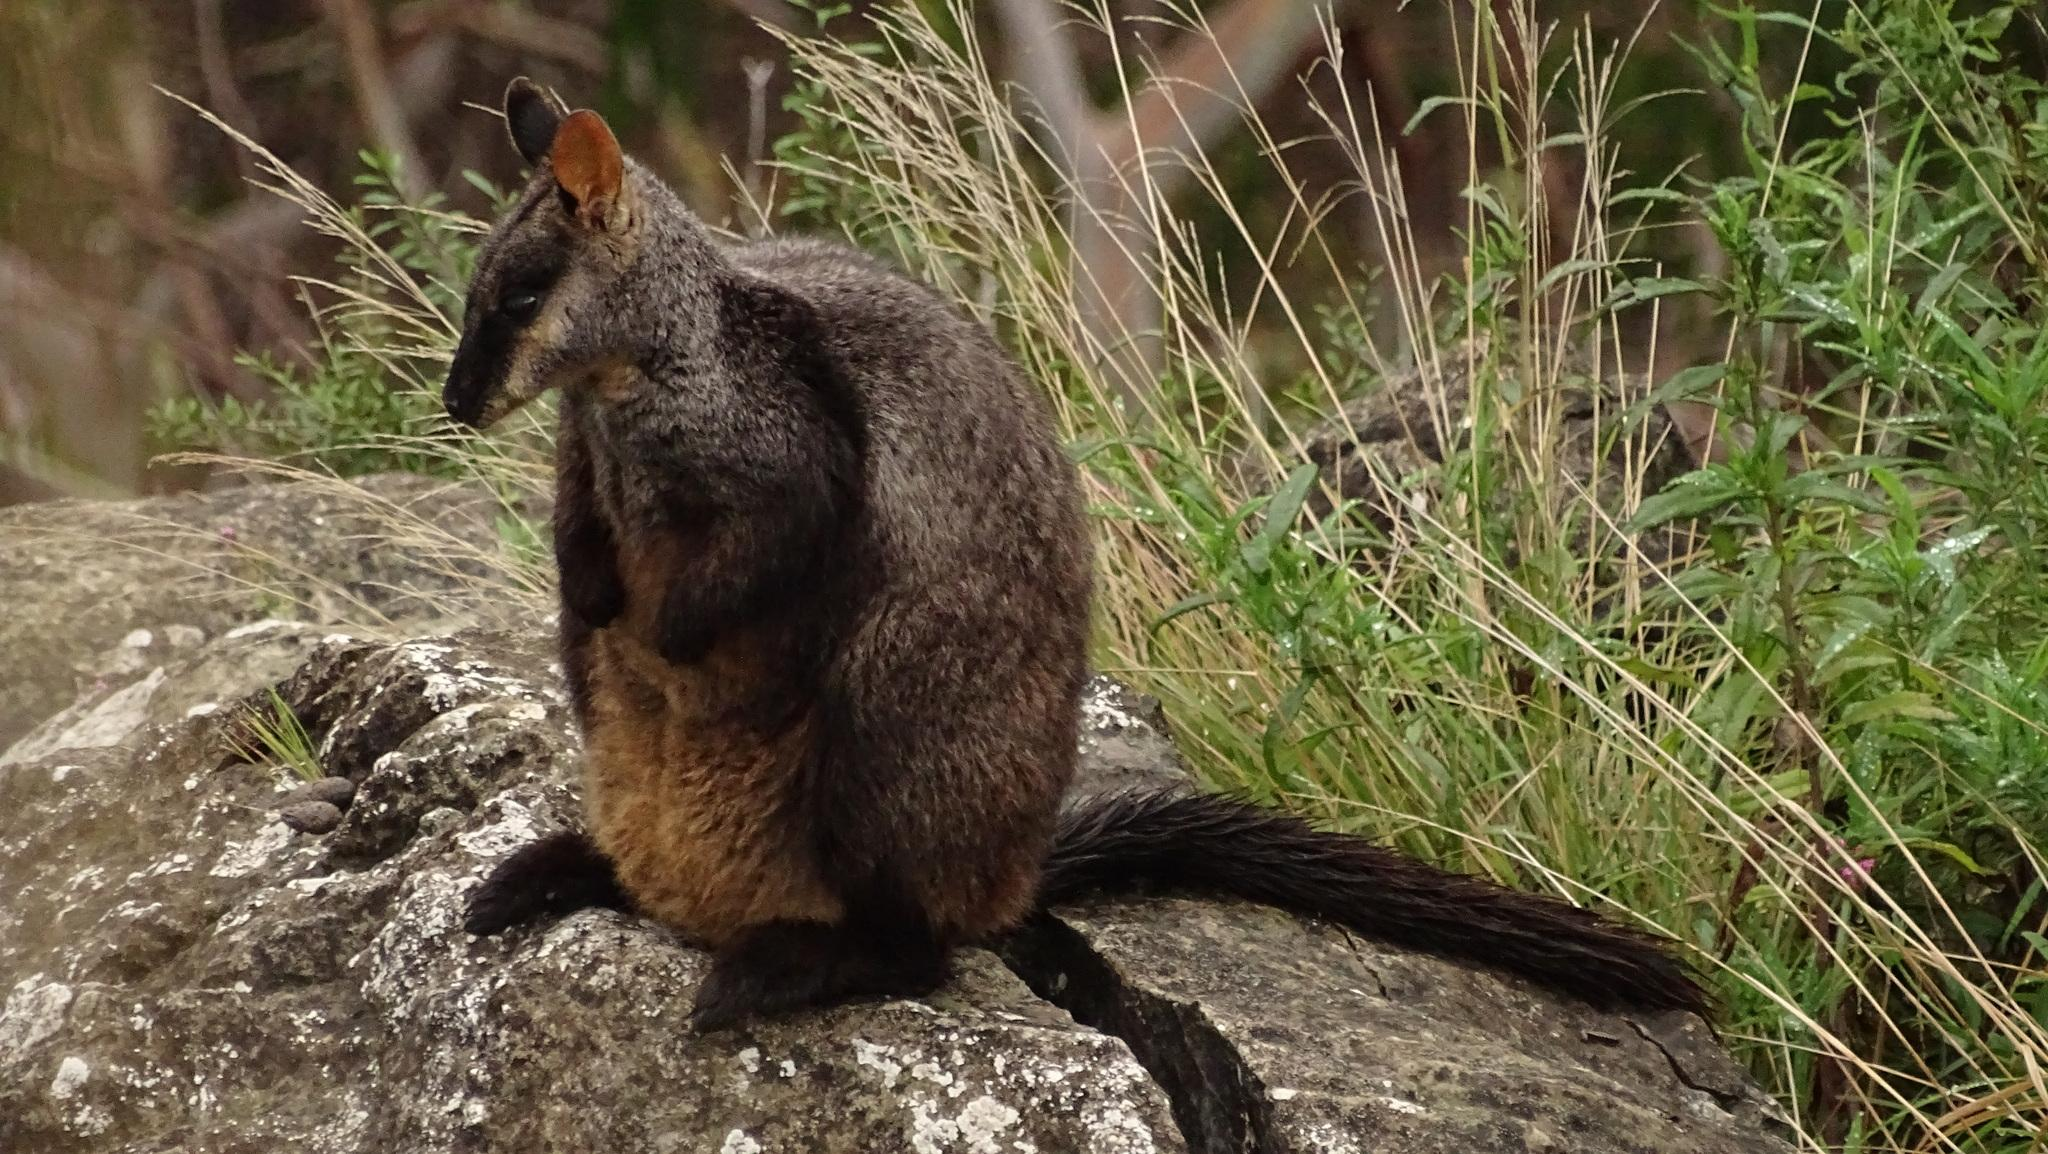Brush-tailed rock-wallaby: (429, 70, 1716, 1064)
